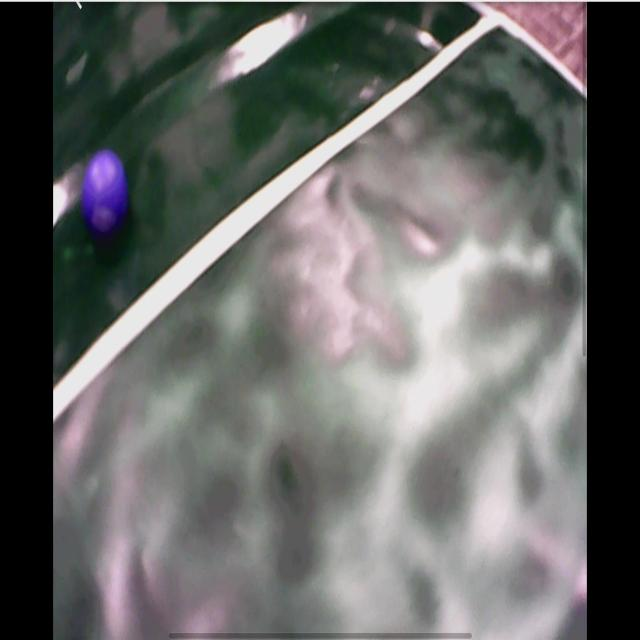ball: (85, 152, 127, 233)
